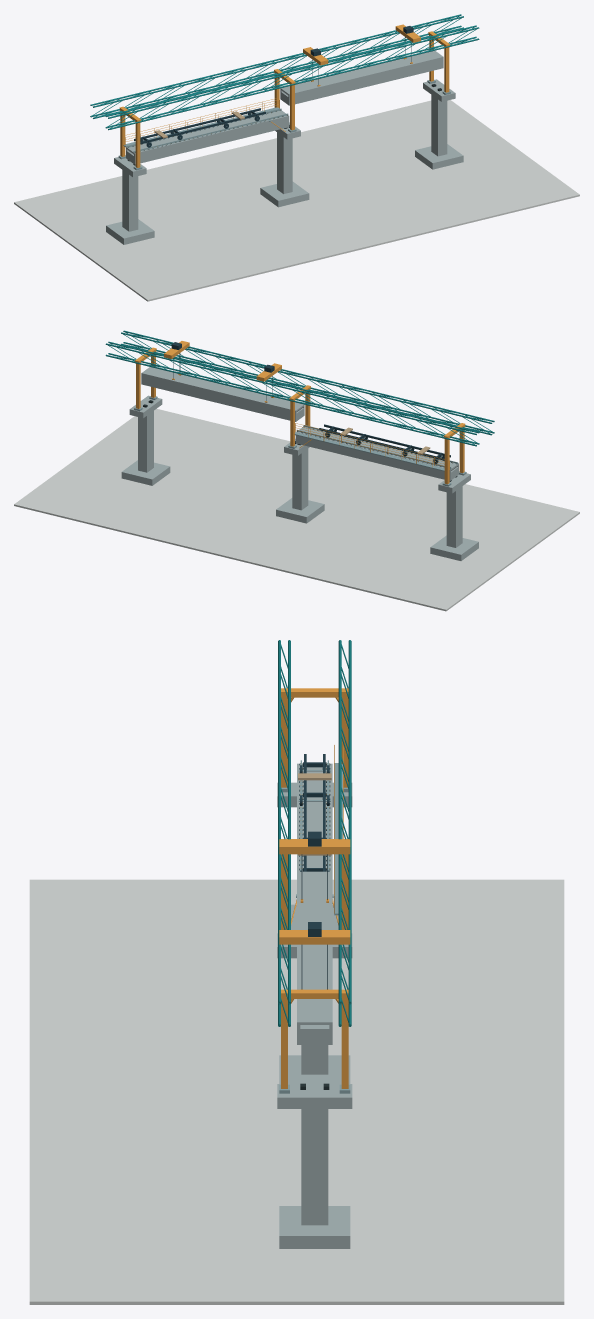
File: viaduct-gantry.glb
The picture shows the model from 3 angles, top to bottom: view 1: azimuth 30°, elevation 25°; view 2: azimuth 150°, elevation 25°; view 3: azimuth 270°, elevation 25°; orthographic projection. The views are drawn at different scales.
Visible parts, largest first — view 1: working-surface, suspended-beam-top, installed-beam-near-web, suspended-beam-near-web, installed-beam-top, pier-0, pier-2, pier-1, gantry-main--1-chord--1-1, gantry-main--1-chord--1--1, gantry-main-1-chord--1-1, gantry-main--1-chord-1-1 (+8 smaller); view 2: working-surface, suspended-beam-top, suspended-beam-far-web, installed-beam-far-web, pier-1, pier-0, installed-beam-top, pier-2, gantry-main-1-chord-1-1, gantry-main-1-chord-1--1, gantry-main--1-chord-1-1, gantry-main-1-chord--1-1 (+9 smaller); view 3: working-surface, suspended-beam-top, pier-2, foundation-2, installed-beam-top, headstock-2, gantry-main-1-chord-1-1, gantry-main-1-chord--1-1, foundation-1, gantry-main--1-chord--1-1, hoist-transverse-trolley-0, gantry-main--1-chord-1-1 (+2 smaller).
Boxes of the visible parts, x1,y1,x2,y2 form: working-surface: (14, 100, 579, 301); suspended-beam-top: (280, 50, 443, 95); installed-beam-near-web: (134, 117, 289, 163); suspended-beam-near-web: (288, 58, 443, 104); installed-beam-top: (126, 110, 289, 154); pier-0: (122, 170, 138, 231); pier-2: (431, 95, 447, 156); pier-1: (277, 132, 292, 193); gantry-main--1-chord--1-1: (108, 27, 479, 118); gantry-main--1-chord--1--1: (108, 38, 479, 130); gantry-main-1-chord--1-1: (93, 16, 463, 107); gantry-main--1-chord-1-1: (105, 25, 476, 116); working-surface: (14, 408, 579, 611); suspended-beam-top: (141, 367, 304, 412); suspended-beam-far-web: (141, 374, 296, 420); installed-beam-far-web: (295, 435, 450, 479); pier-1: (292, 448, 308, 510); pier-0: (446, 486, 462, 547); installed-beam-top: (296, 427, 458, 470); pier-2: (138, 411, 153, 472); gantry-main-1-chord-1-1: (105, 343, 476, 435); gantry-main-1-chord-1--1: (105, 354, 476, 446); gantry-main--1-chord-1-1: (121, 332, 492, 423); gantry-main-1-chord--1-1: (108, 341, 479, 433); working-surface: (29, 879, 564, 1304); suspended-beam-top: (297, 871, 332, 1024); pier-2: (301, 1109, 328, 1225); foundation-2: (279, 1206, 350, 1248); installed-beam-top: (297, 763, 332, 871); headstock-2: (277, 1084, 352, 1108); gantry-main-1-chord-1-1: (348, 640, 351, 1004); gantry-main-1-chord--1-1: (338, 640, 341, 1004); foundation-1: (279, 1055, 350, 1083); gantry-main--1-chord--1-1: (278, 640, 280, 1004); hoist-transverse-trolley-0: (279, 839, 350, 854); gantry-main--1-chord-1-1: (288, 640, 290, 1004).
Size of the model in its own units: 56 by 17.42 by 30.
